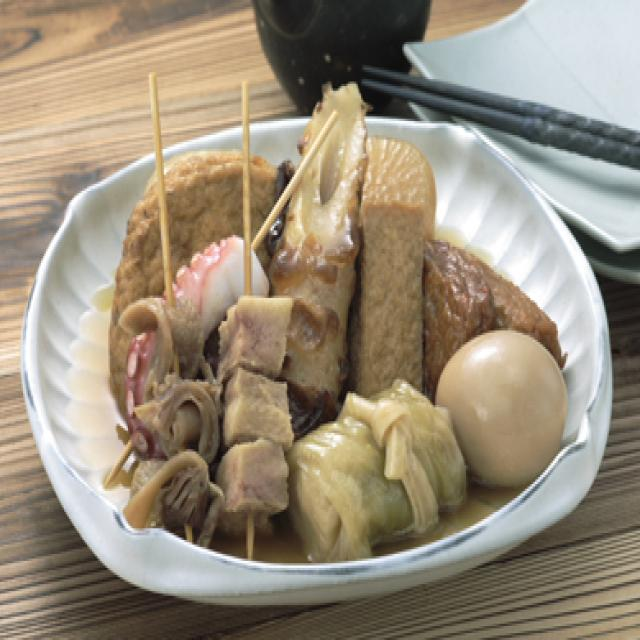汤锅炖物: (106, 63, 570, 565)
